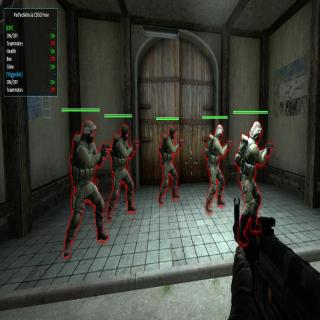CT-Body: (64, 117, 102, 254), (238, 118, 264, 243), (108, 122, 134, 216), (158, 125, 179, 202), (206, 120, 224, 207)
CT-Head: (78, 118, 98, 146), (248, 119, 263, 141), (213, 121, 224, 139), (119, 123, 129, 140), (168, 125, 176, 138)
